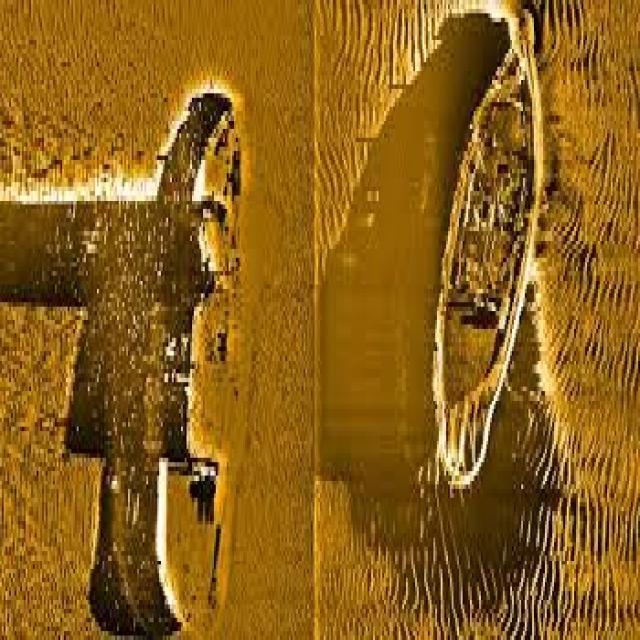shipwreck: (424, 27, 527, 489), (154, 102, 232, 631)
